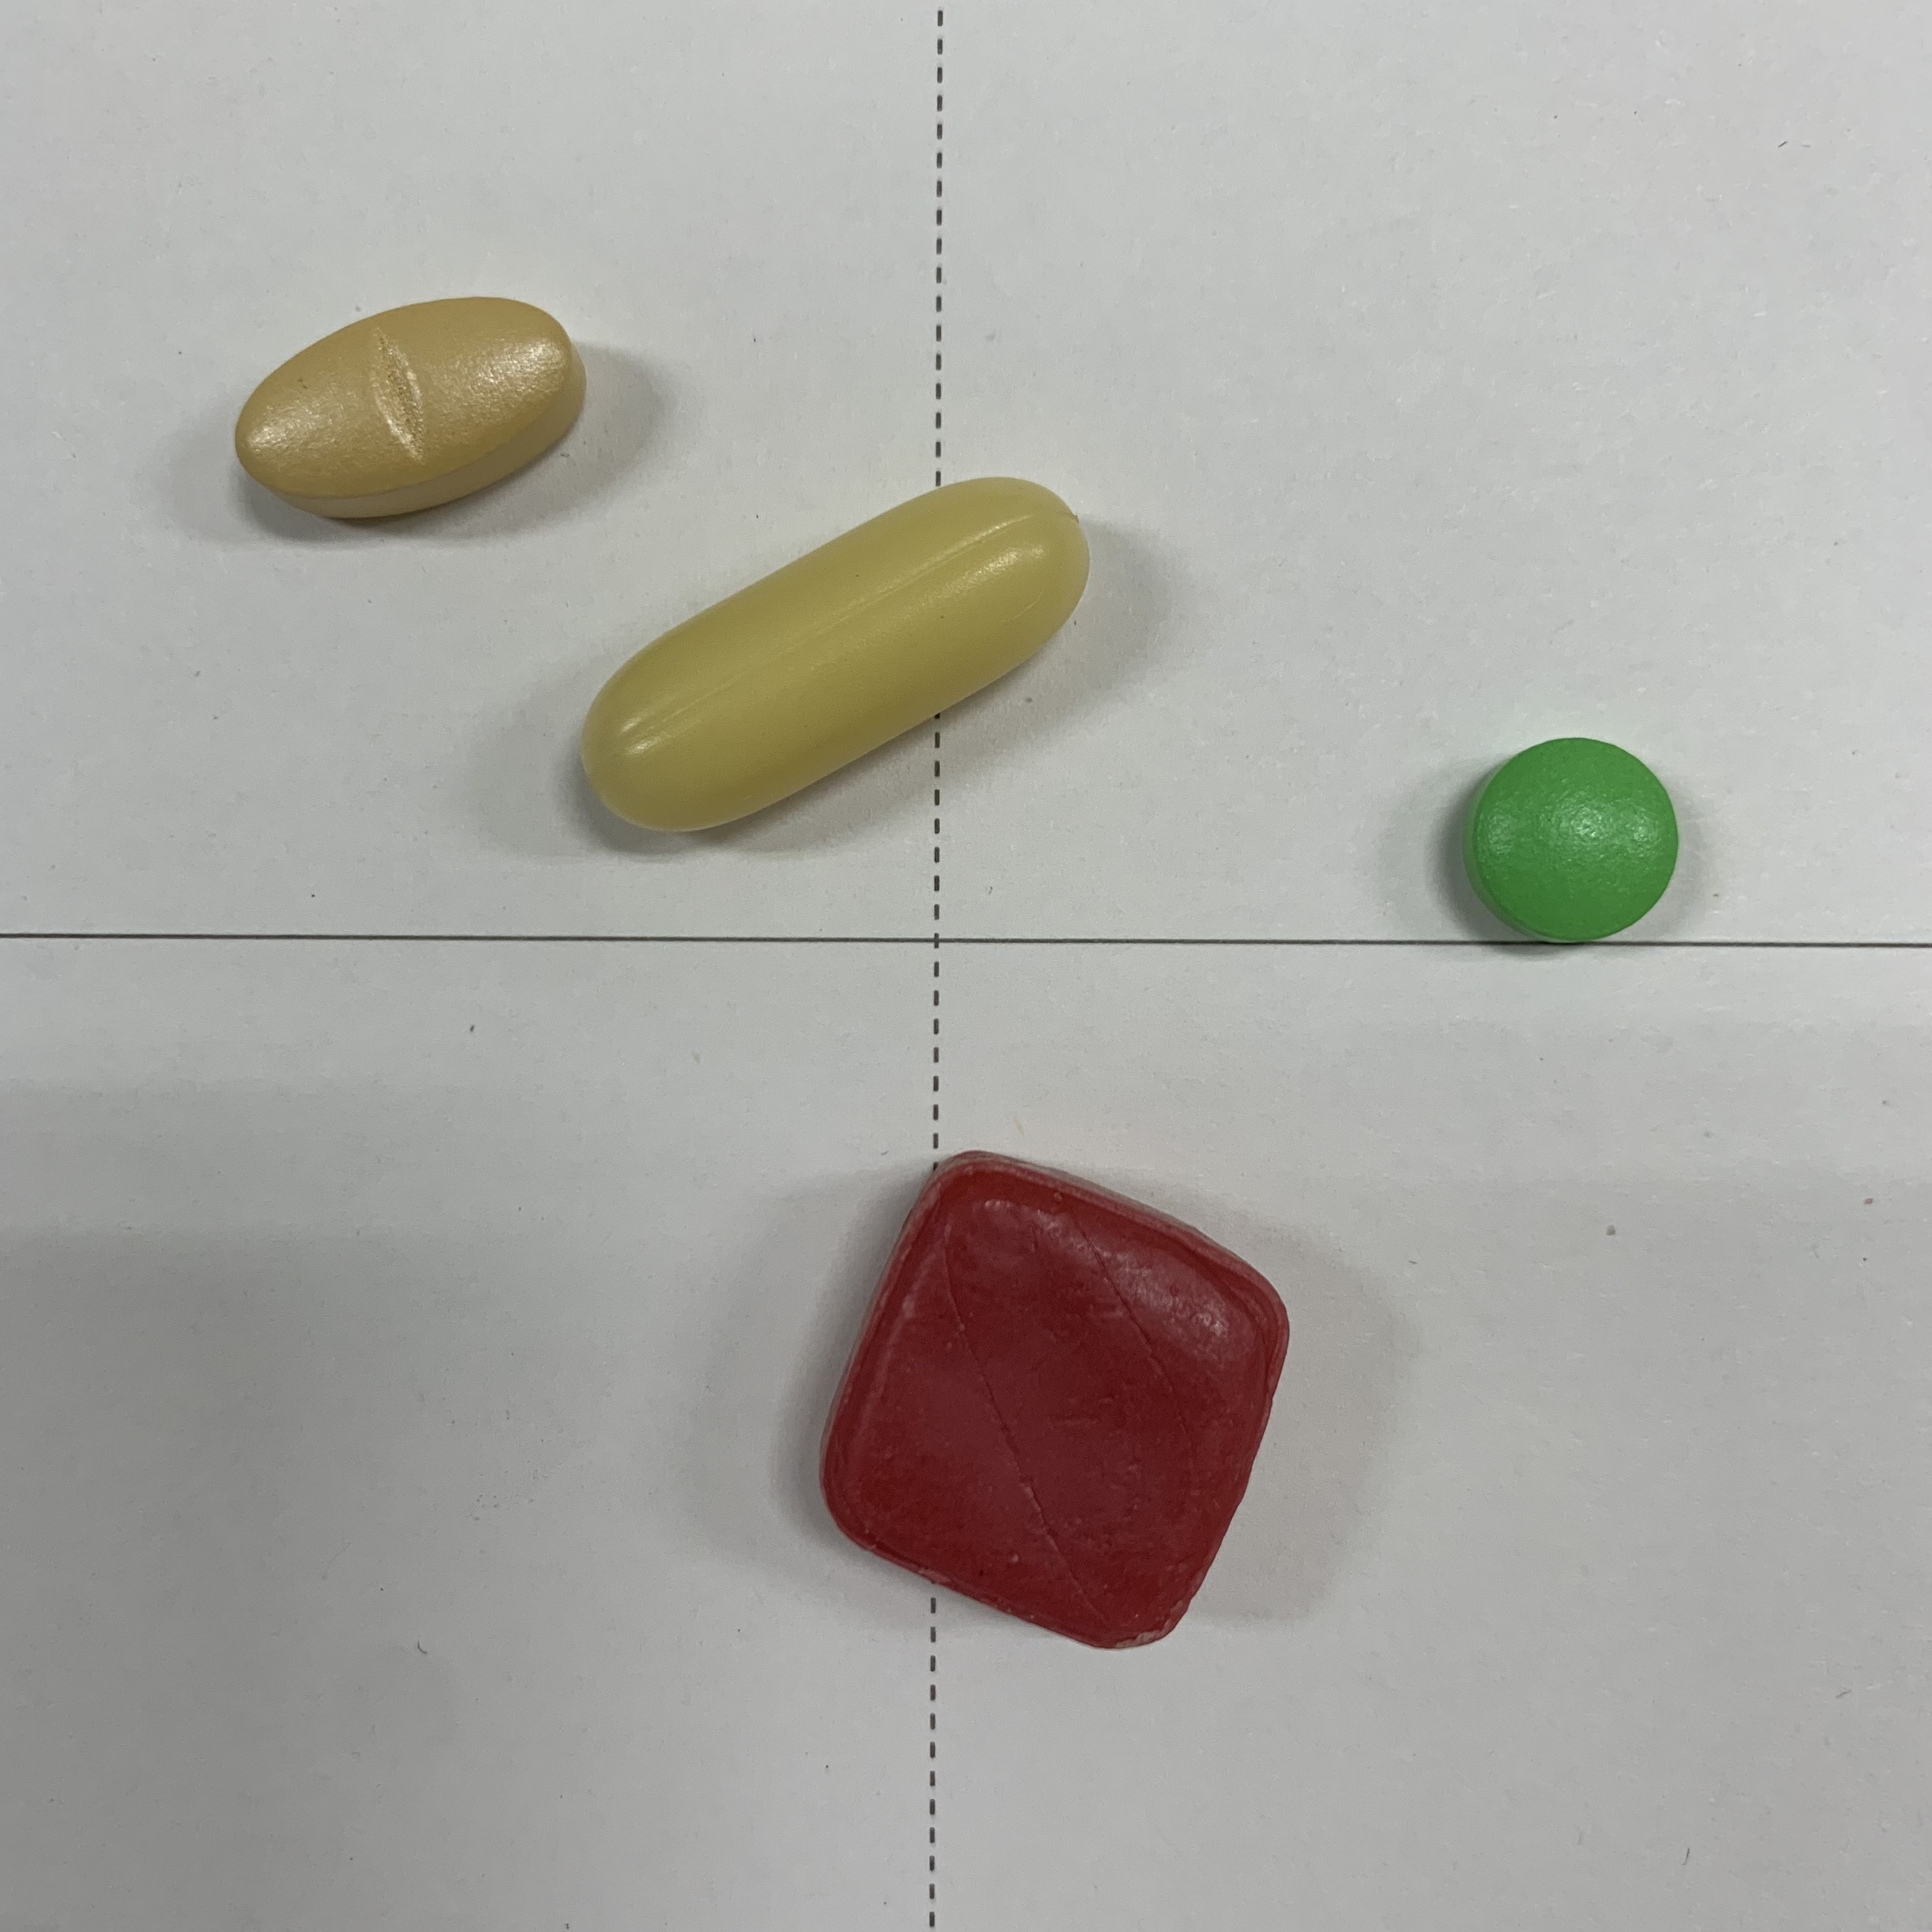cir_drug: (1437, 724, 1711, 957)
oval_drug: (198, 274, 628, 541)
rec_drug: (552, 432, 1099, 892)
sqr_drug: (805, 1143, 1313, 1658)
